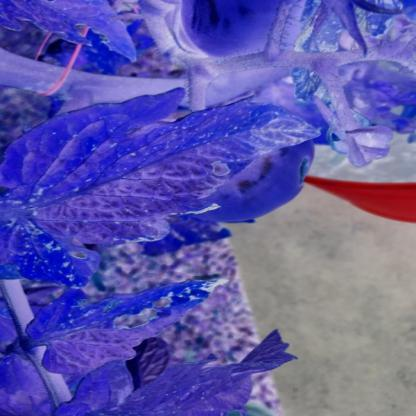Tomato Septoria leaf spot: (2, 92, 320, 285)
